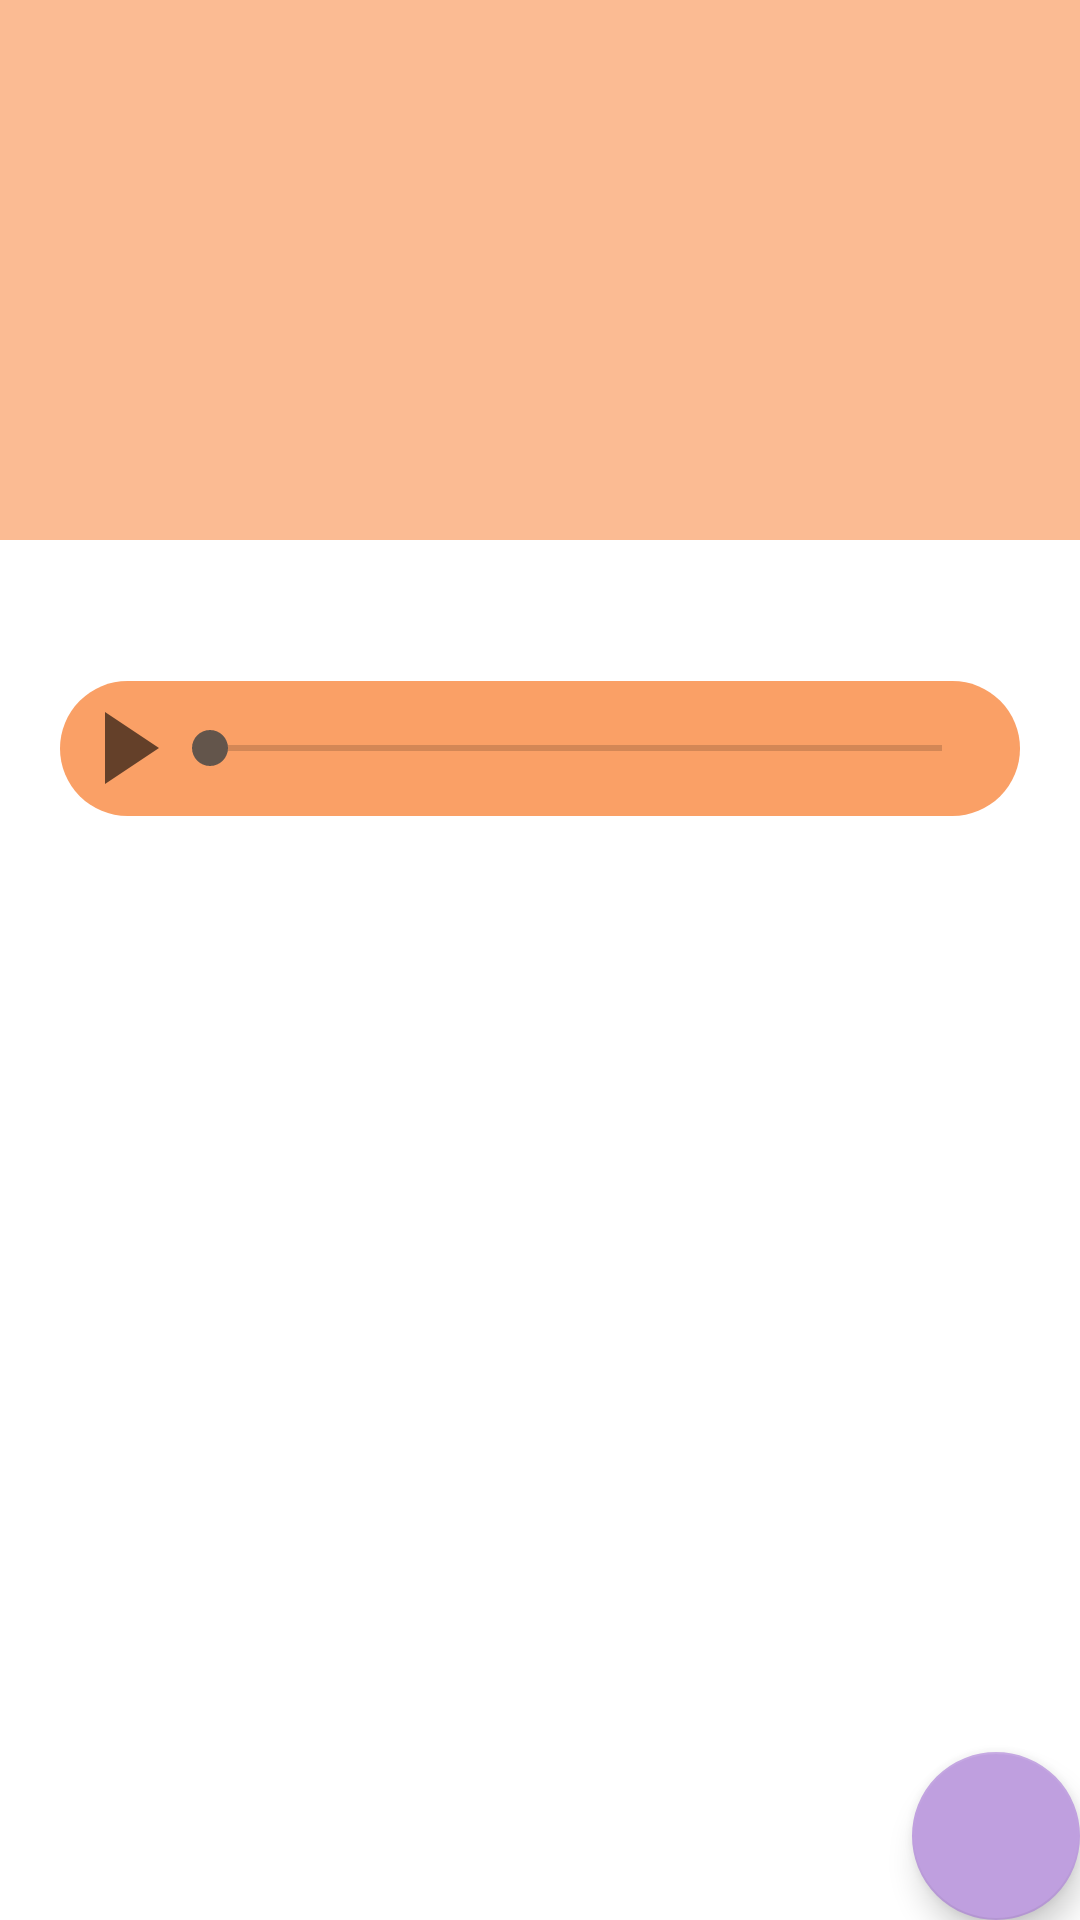

Named icons in this screenshot (1080*1920) and their centers, (x,y):
play arrow: (132,748)
